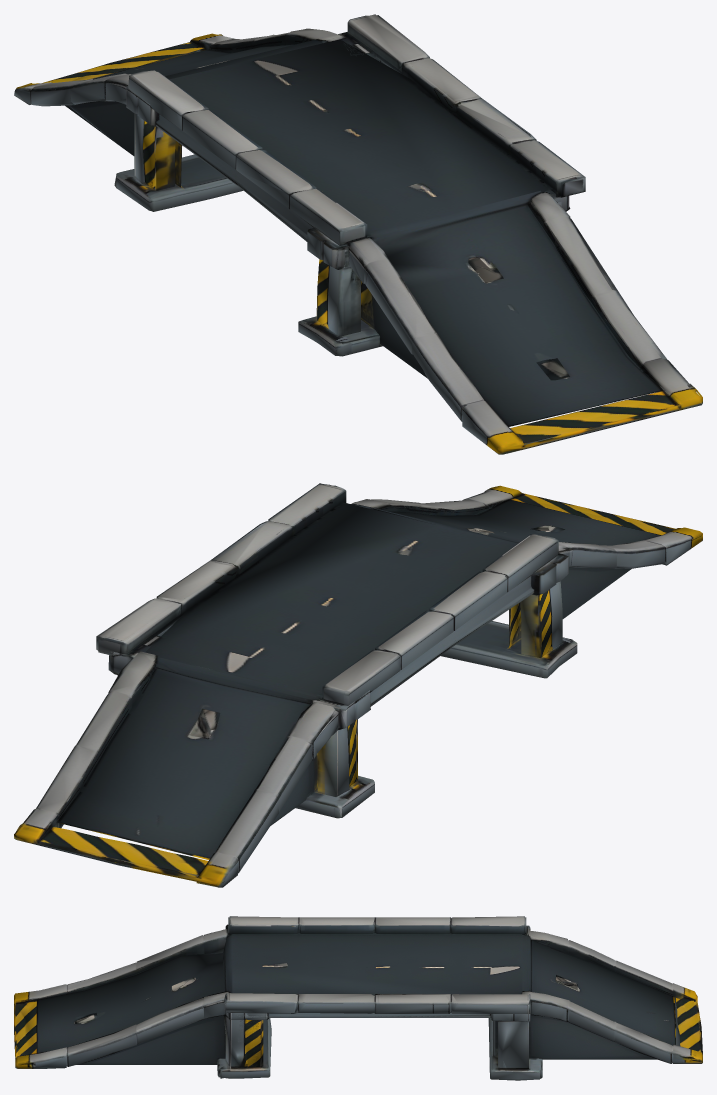
Rendered from bridge.glb.
3 views of the same model, one above another, from view 1: azimuth 30°, elevation 25°; view 2: azimuth 150°, elevation 25°; view 3: azimuth 270°, elevation 25° (orthographic). The views are drawn at different scales.
Parts seen in each view (by area): view 1: tripo_node_58fa6160-aa1b-4bfc-9cf8-f95b912c541a; view 2: tripo_node_58fa6160-aa1b-4bfc-9cf8-f95b912c541a; view 3: tripo_node_58fa6160-aa1b-4bfc-9cf8-f95b912c541a.
Part boxes in pixels (bbox=[...]): tripo_node_58fa6160-aa1b-4bfc-9cf8-f95b912c541a: bbox=[14, 14, 702, 454]; tripo_node_58fa6160-aa1b-4bfc-9cf8-f95b912c541a: bbox=[14, 483, 702, 887]; tripo_node_58fa6160-aa1b-4bfc-9cf8-f95b912c541a: bbox=[14, 916, 702, 1080].
Bounding box in the file's own units: 13.2 × 5.6 × 42.
Materials: 1 (1 with a texture image).
